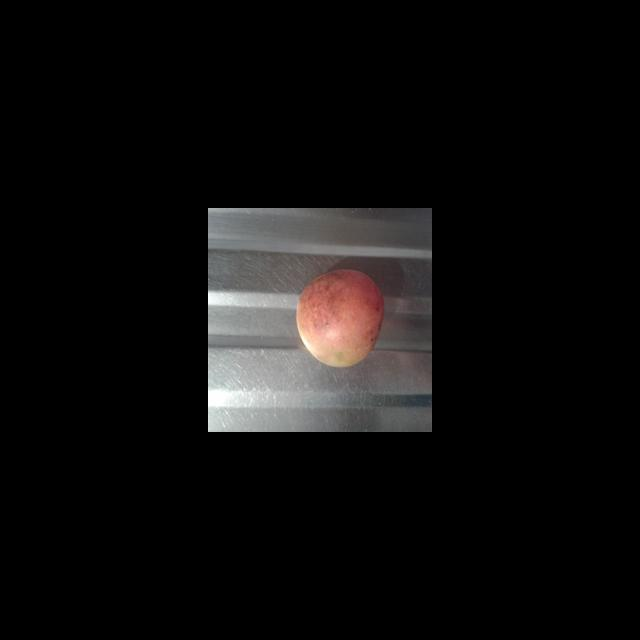Mango: (295, 268, 384, 367)
